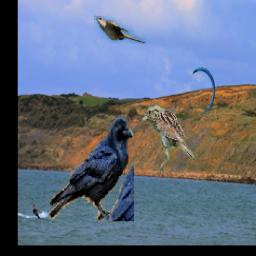Crow: (47, 116, 133, 222)
Cuckoo: (93, 16, 146, 43)
Sparrow: (141, 103, 195, 173)
